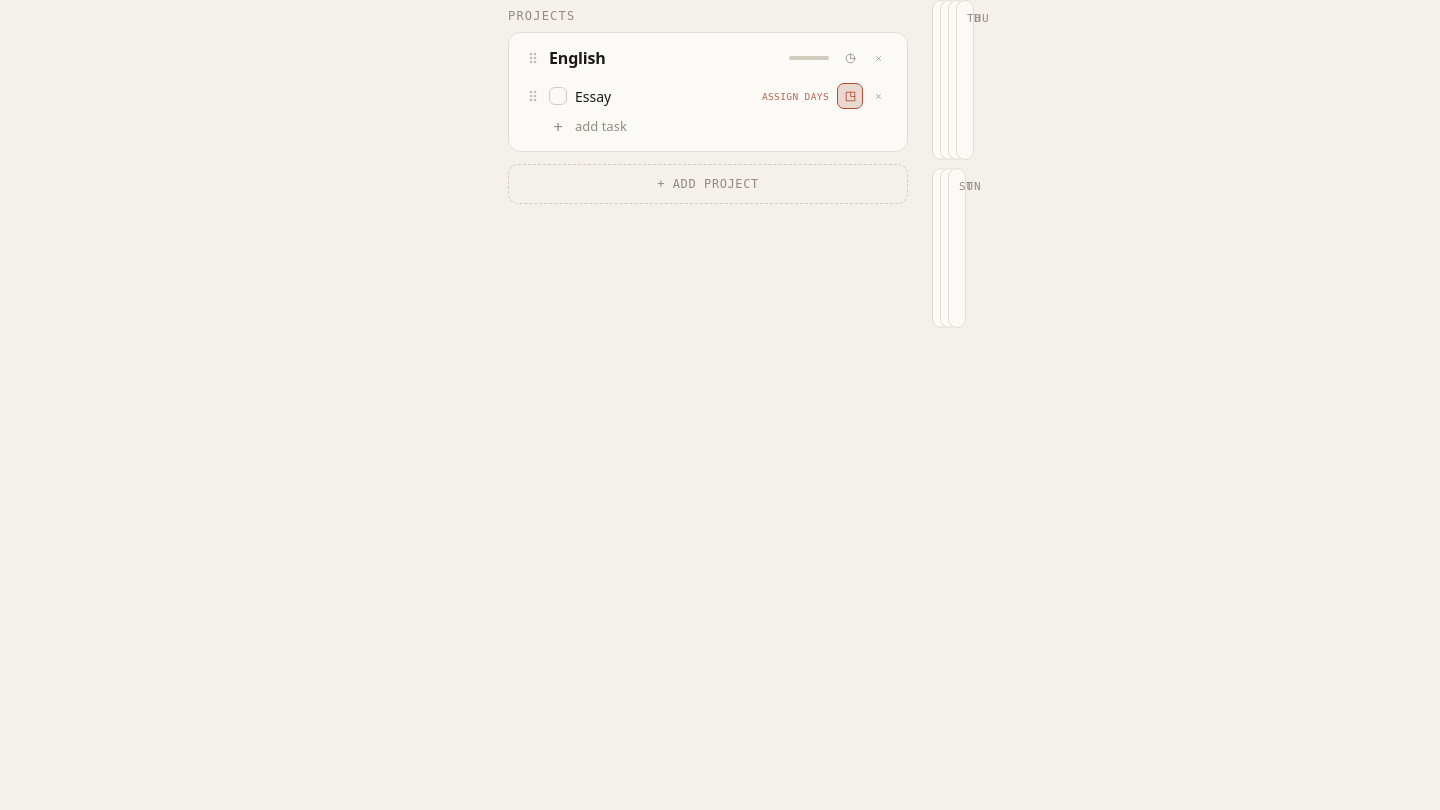
Test case: WeekBoard › dismissing the delete changes nothing
This screenshot has width=1440, height=810.
Click the button named "Delete project" at coordinates (878, 58), box 865,45 -> 891,71
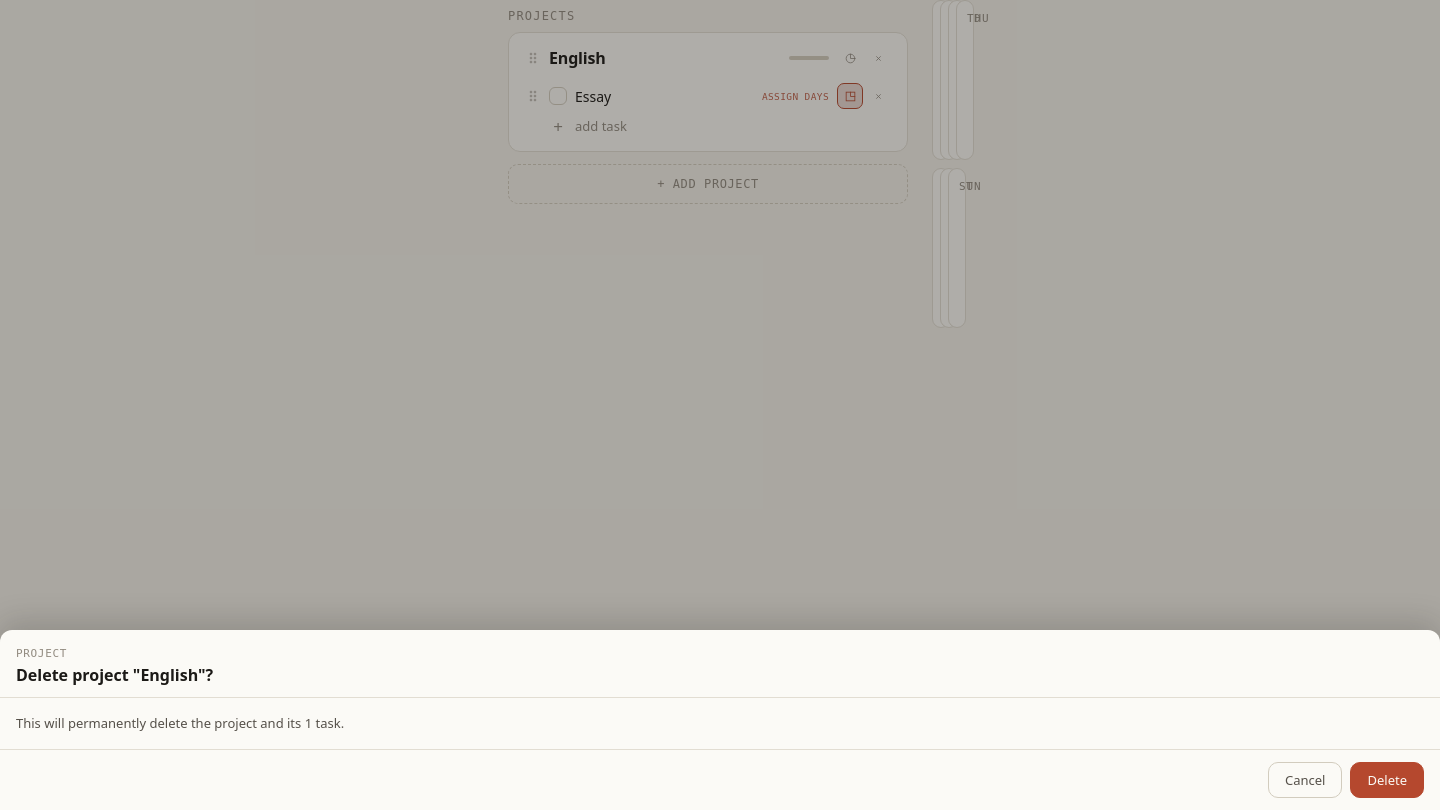
Click the button "Cancel" at coordinates (1305, 780), box 1268,762 -> 1342,798
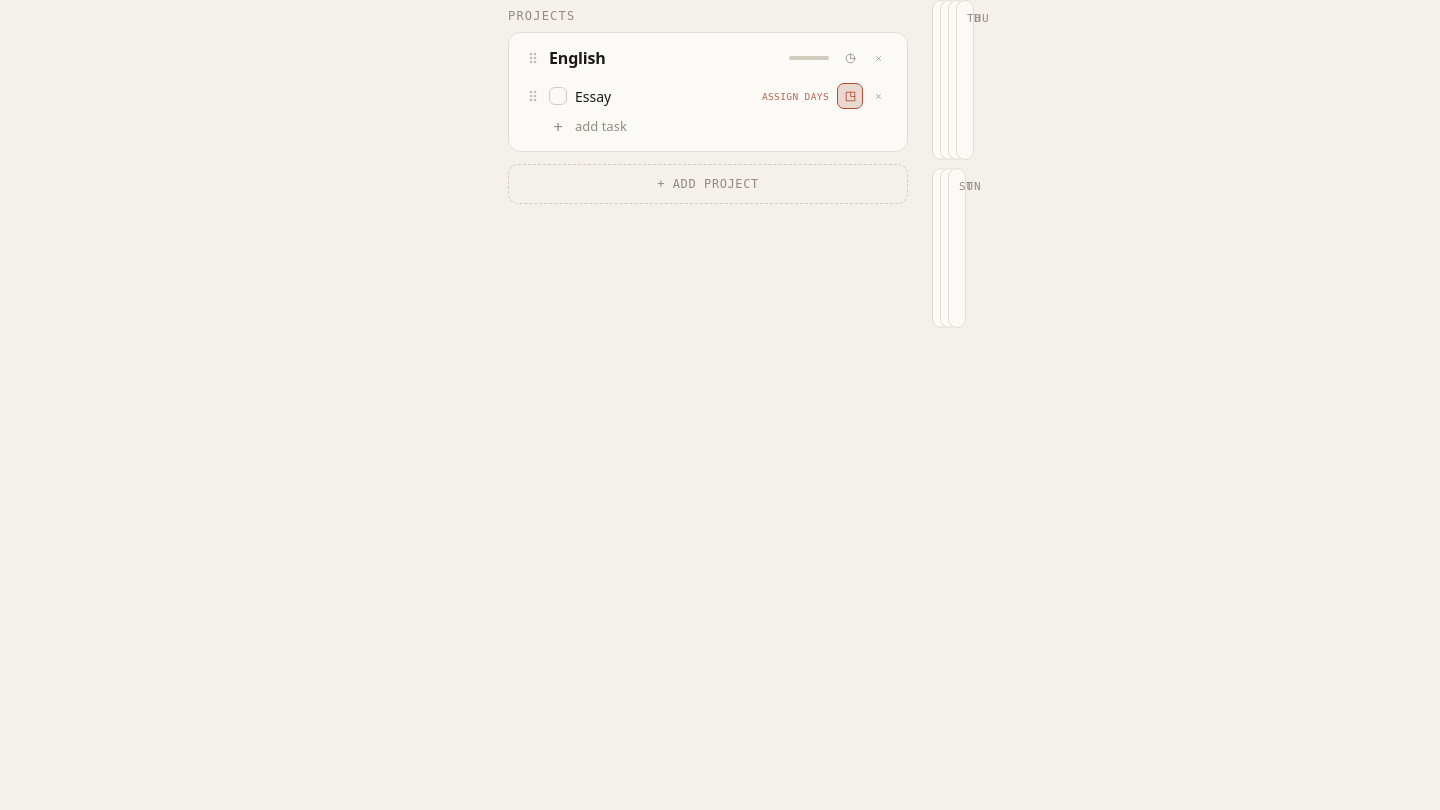
Check: the dialog is gone
